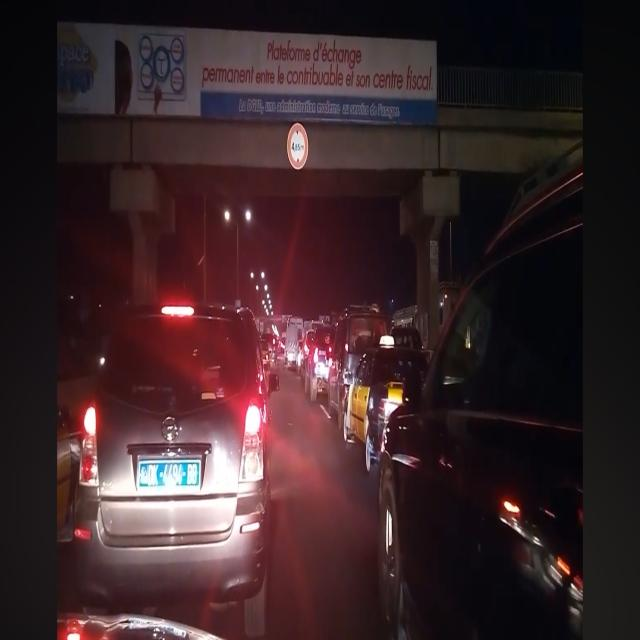fourgon: (286, 318, 305, 372)
particulier: (380, 150, 585, 634), (76, 307, 271, 631), (330, 307, 391, 428), (310, 326, 336, 401)
taxi: (345, 347, 430, 472)
